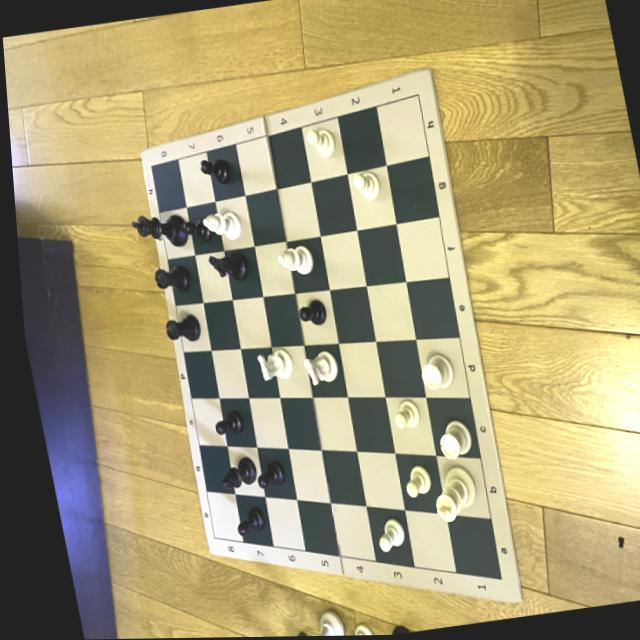chess-table-corners: (410, 85, 428, 108), (486, 568, 502, 588), (142, 160, 156, 180), (200, 532, 212, 550)
